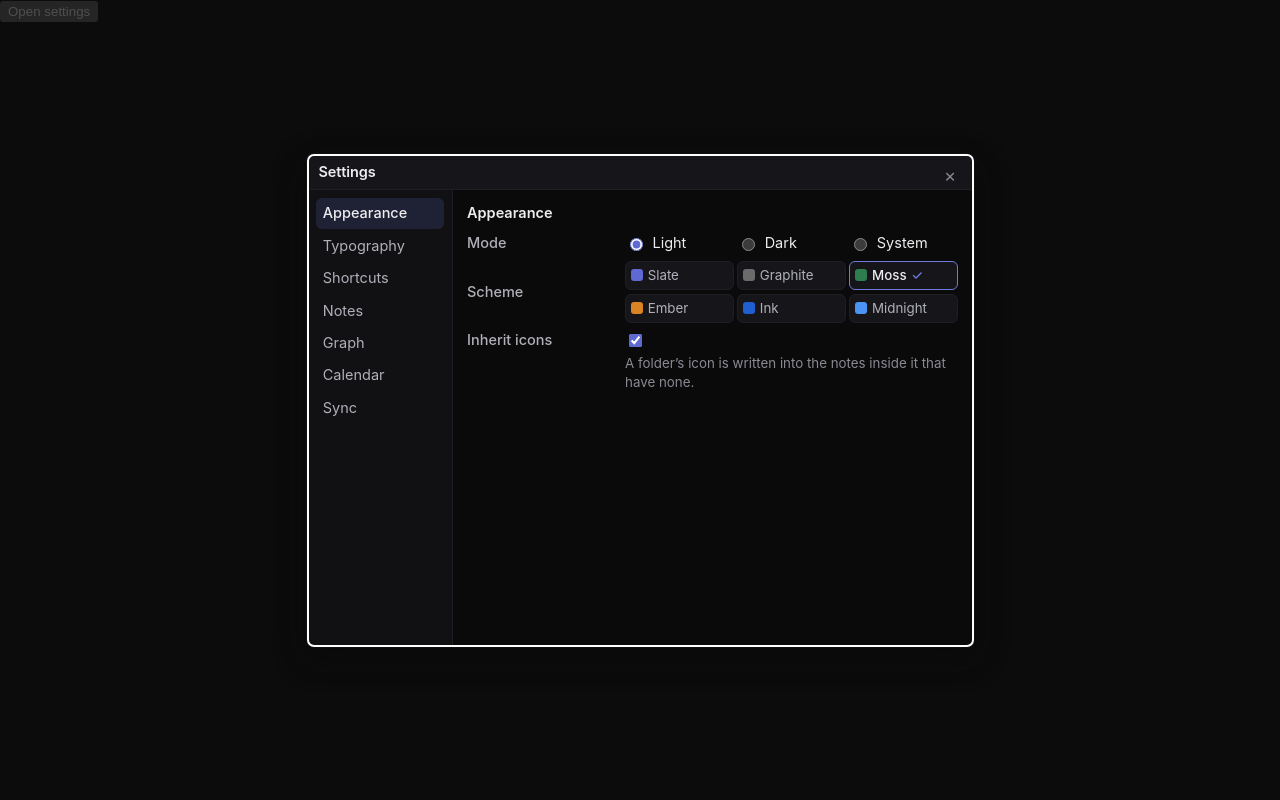
Test: capturing a shortcut › refuses a taken combo, shows why, and does not save it
Click the button "Shortcuts".
click(380, 278)  # box [316,263,444,294]
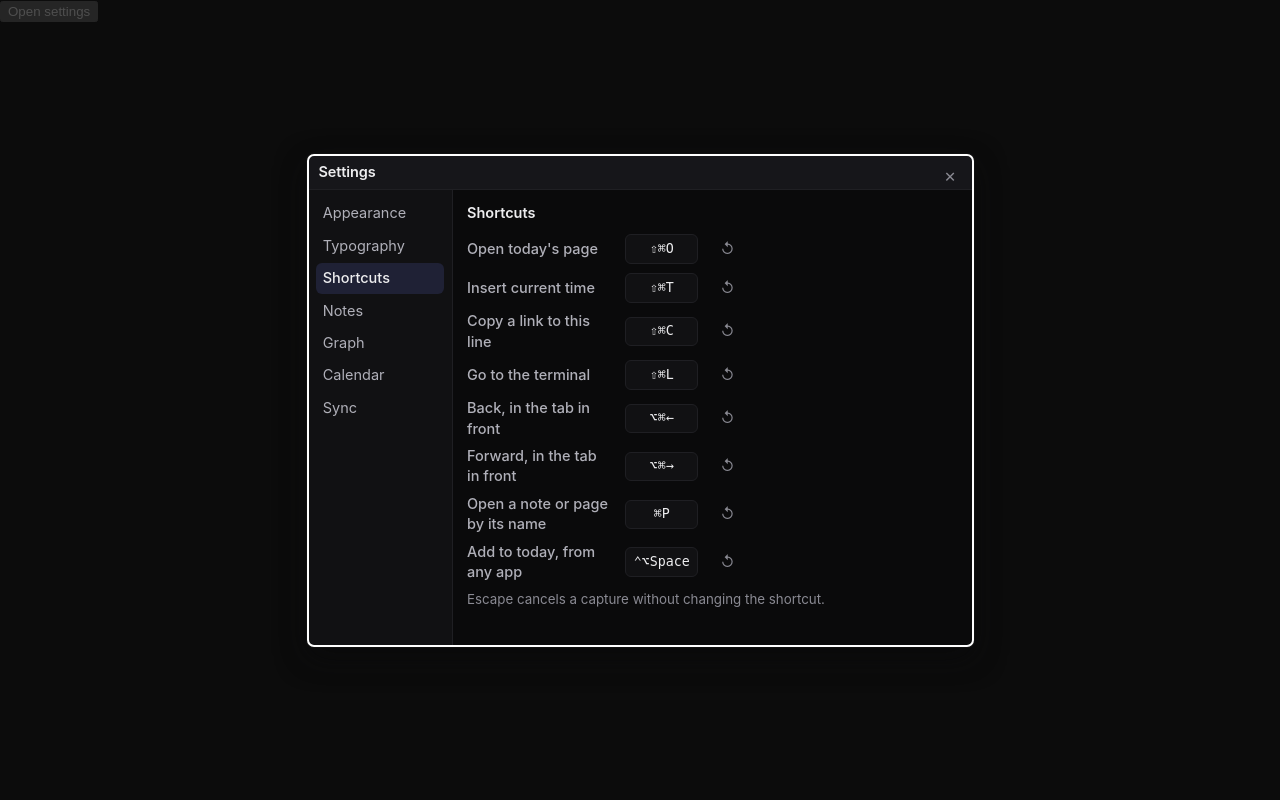
Click the button named "Open today's page".
click(662, 249)  # box [625,234,698,264]
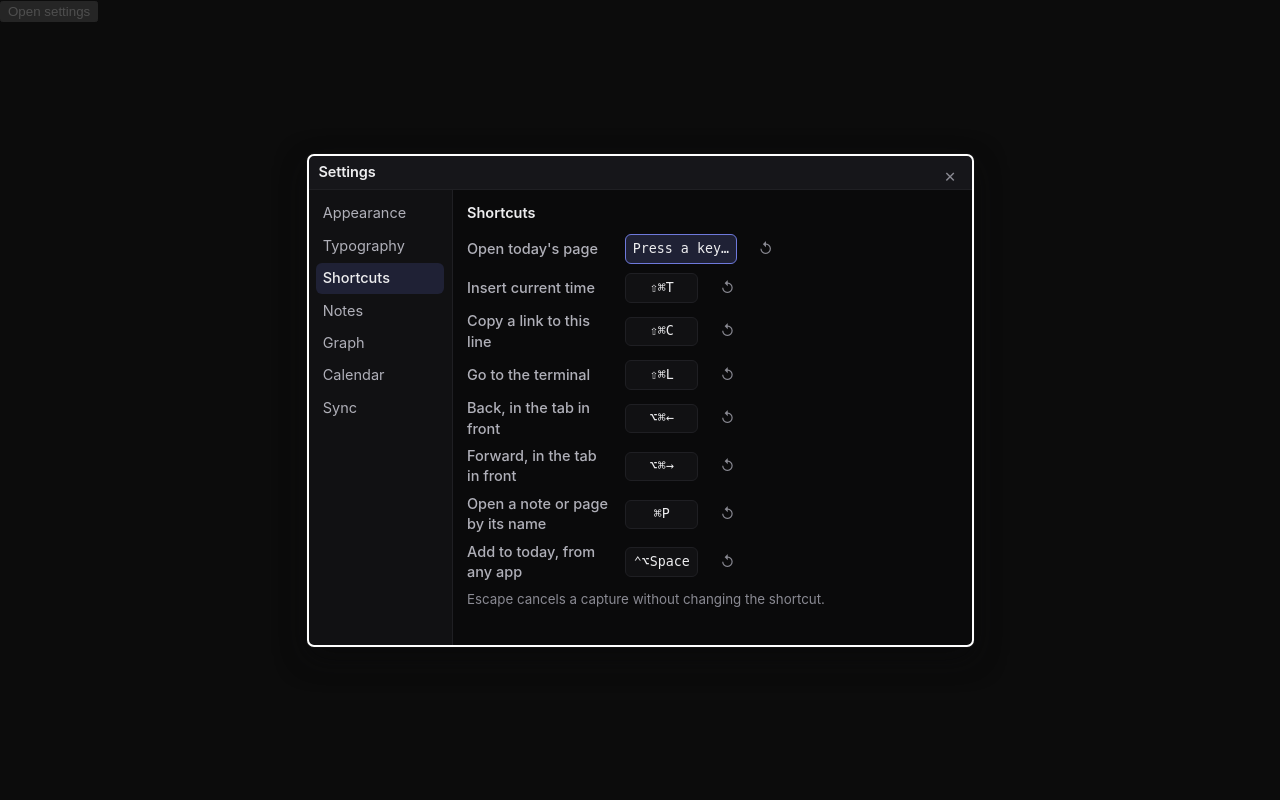
# ⌘B is the editor's bold, in `EDITOR_COMBOS`, so `findConflict` refuses it.
Press b in the dialog, box [306,154,974,646]
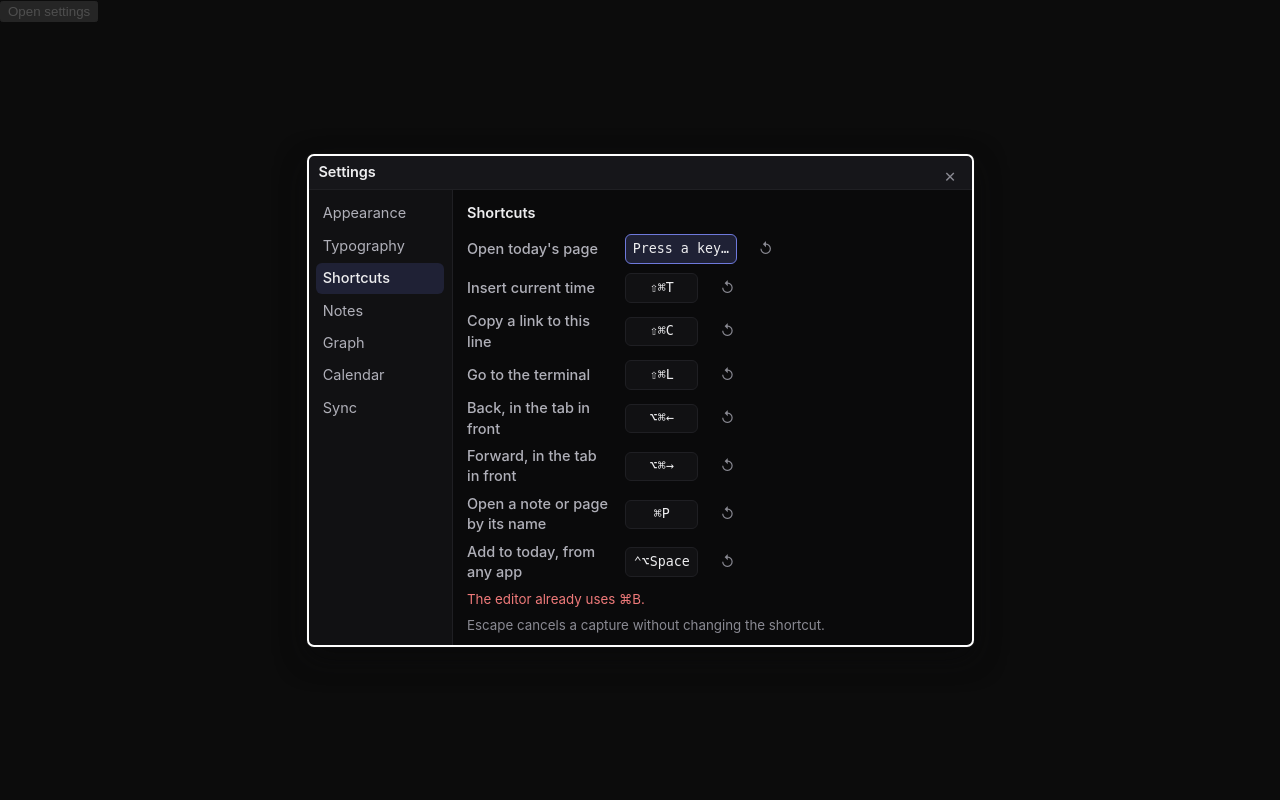
Expected: the text "The editor already uses ⌘B." is shown, [467,591,645,607]
Press Escape in the dialog, box [306,154,974,646]
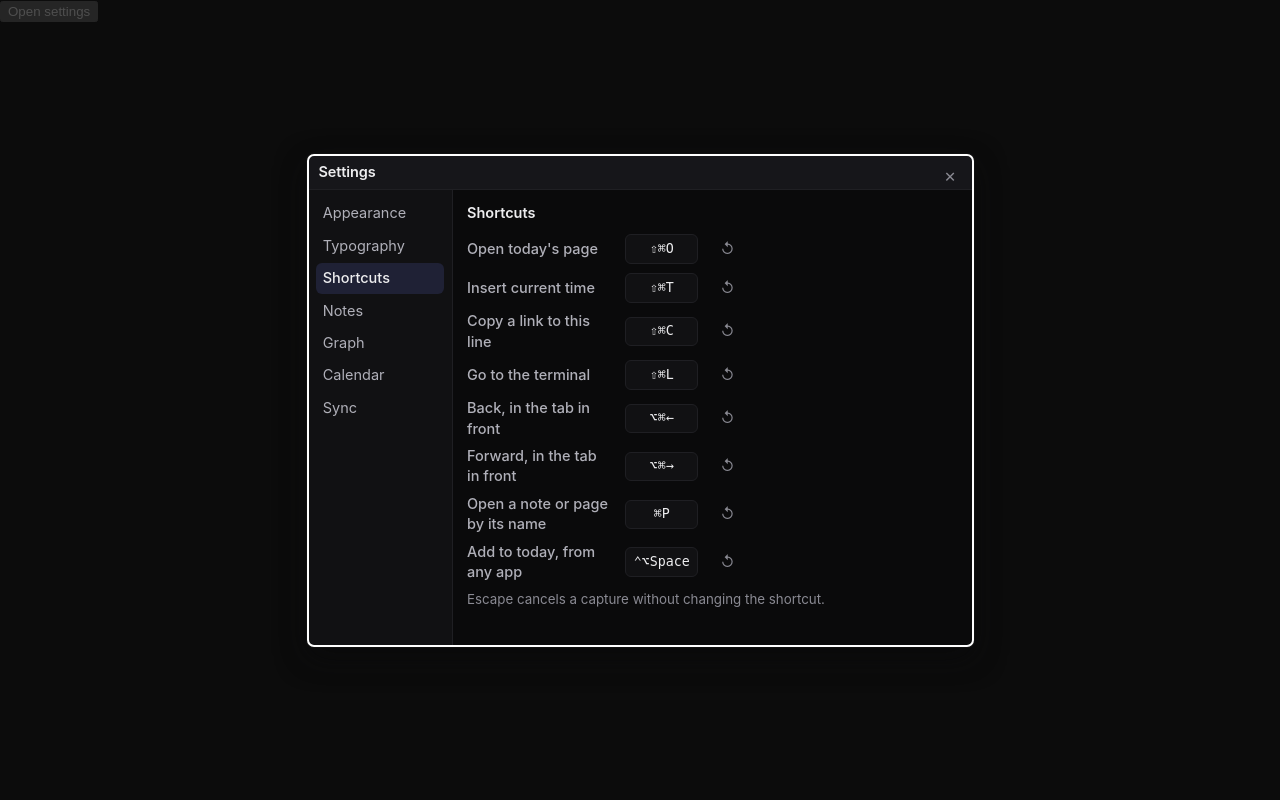
Expected: the button named "Open today's page" reads "⇧⌘O", [625,234,698,264]
